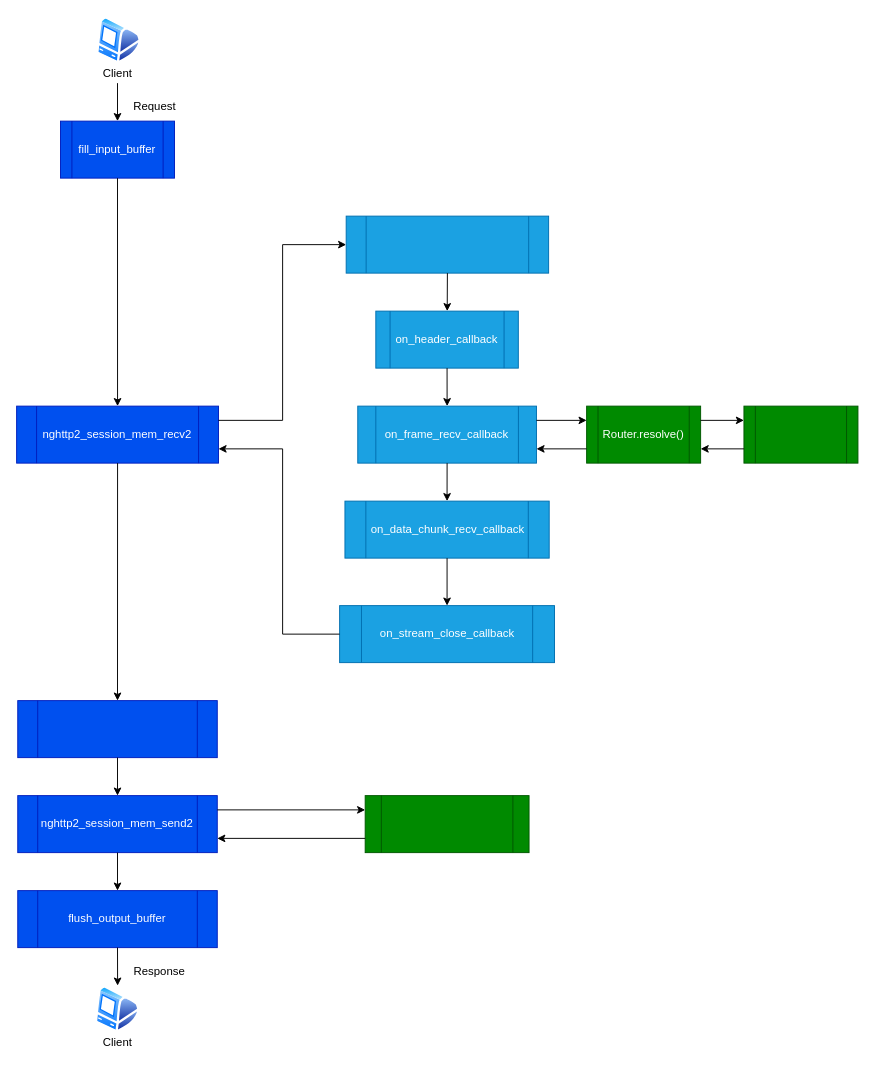
Image size: 875x1068. Some labels were removed from this diagram. Here are the shapes that lost their labels. From the top down, the box of each, then its label:
(345, 215, 549, 273): on_begin_headers_callback
(743, 405, 858, 463): Handler
(17, 700, 217, 758): nghttp2_submit_response2
(364, 795, 529, 853): file_read_callback
